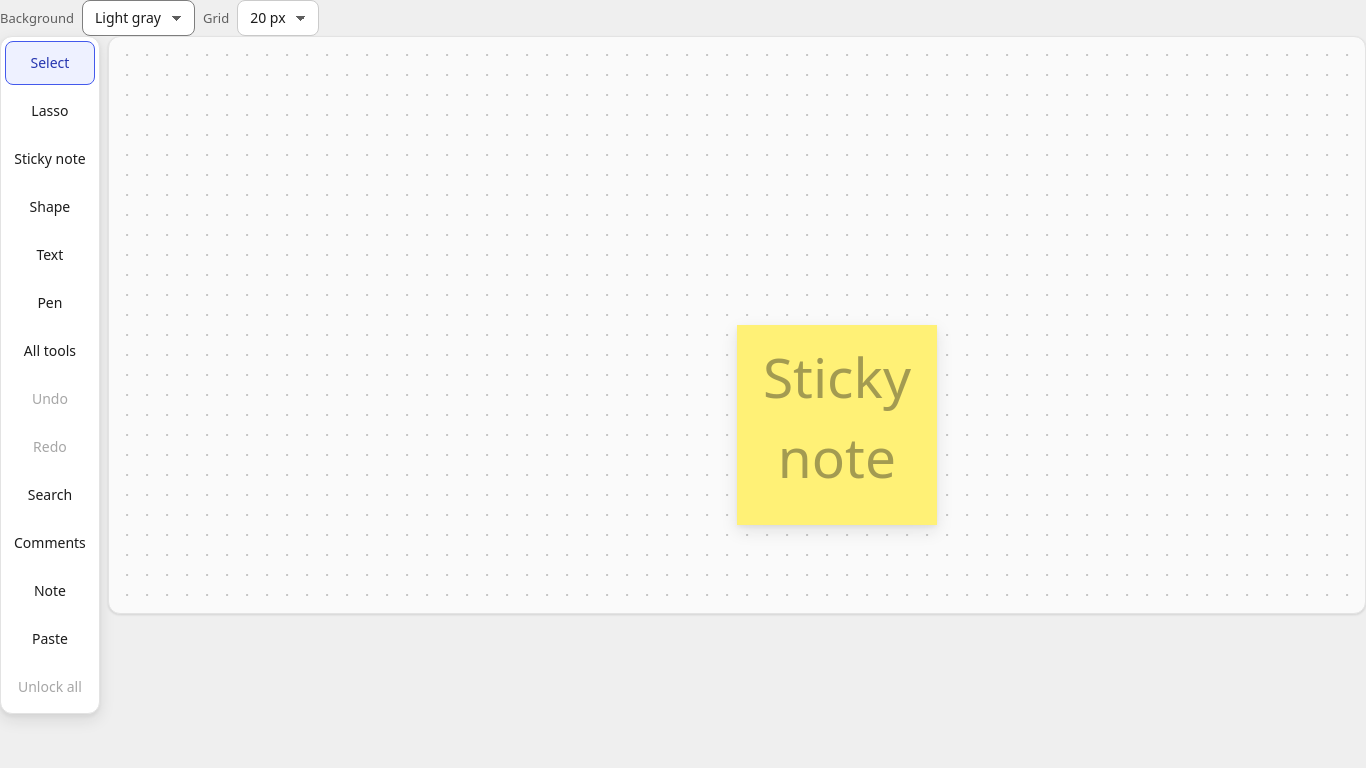
Test: CVS-24 закреплённые инструменты и полный список › пока список открыт, клавиши сцены не работают; Escape закрывает его с первого раза
Press the mouse on the element showing "Sticky note": (837, 425) [737, 325, 937, 525]
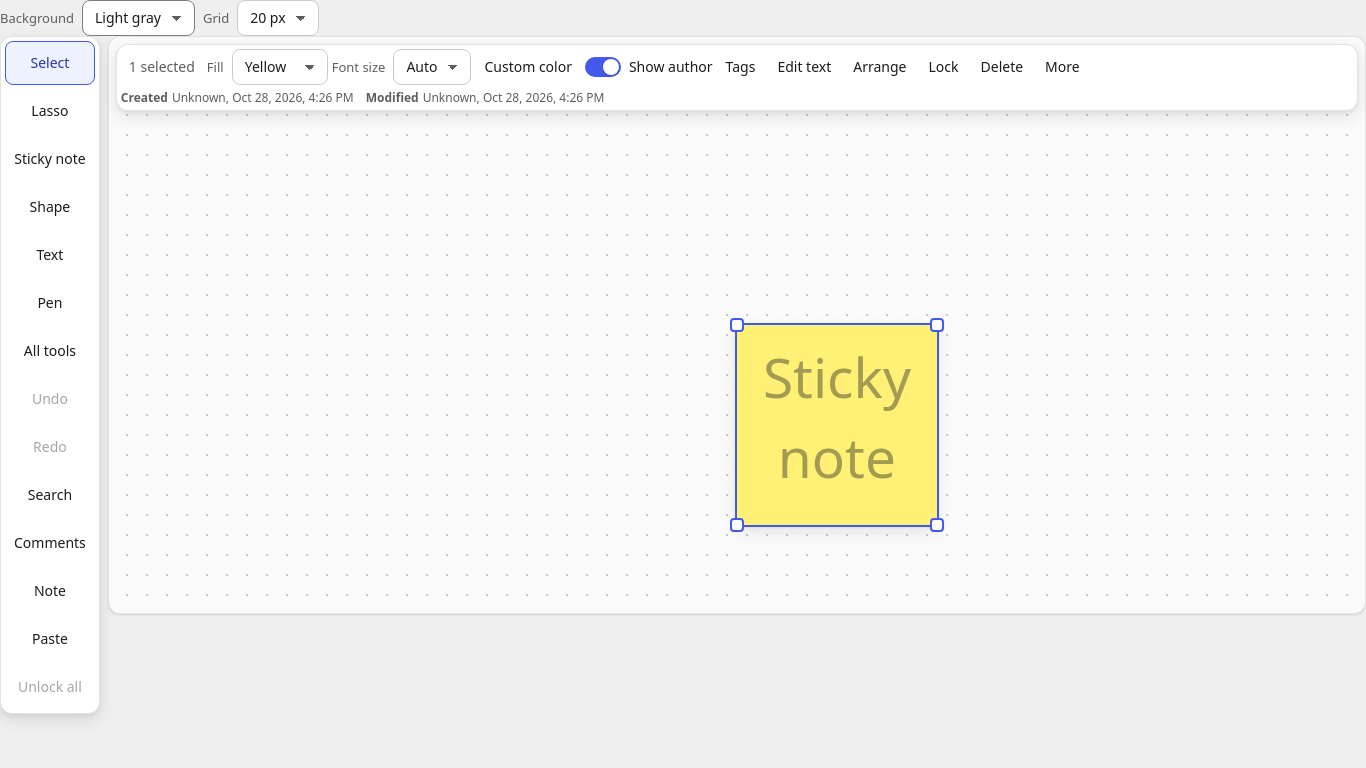
Click the button "All tools": (50, 351) [5, 329, 95, 373]
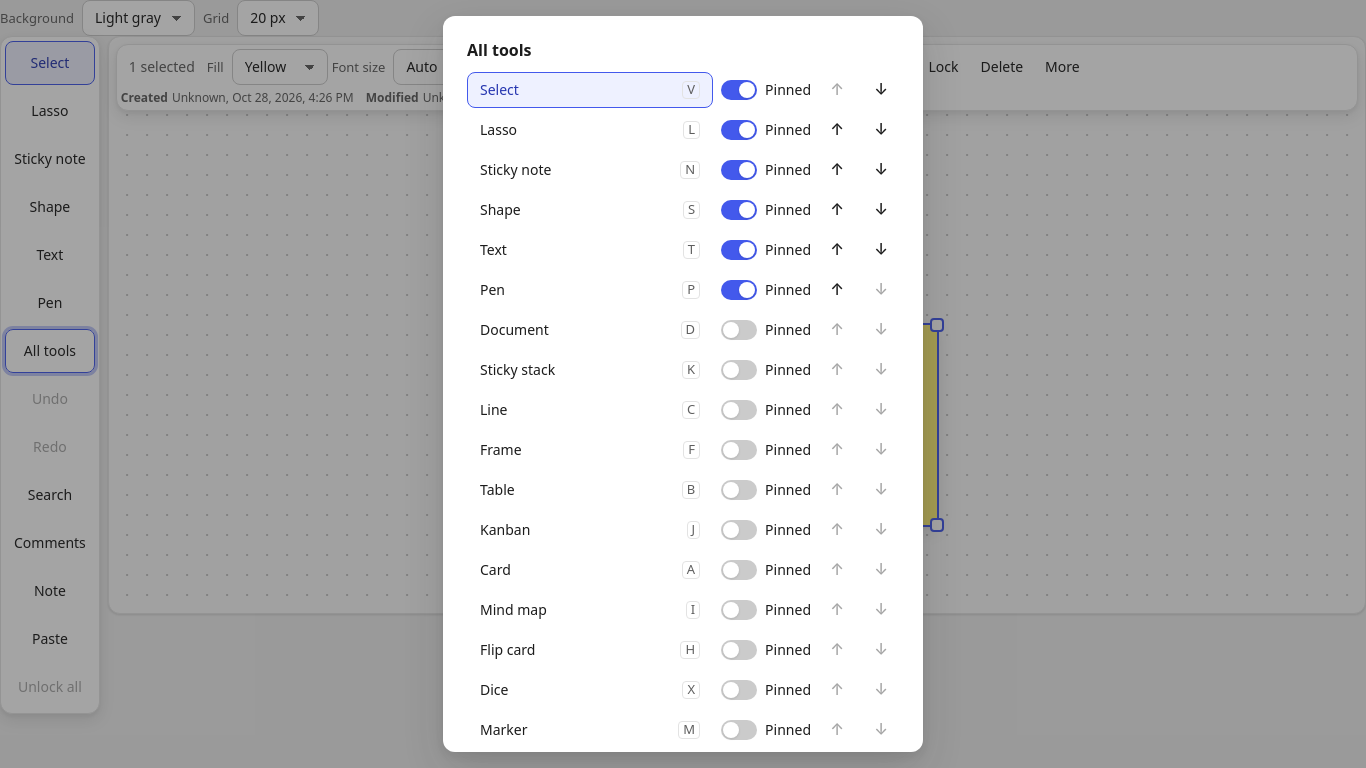
Type keys "{Delete}l"
Press Escape
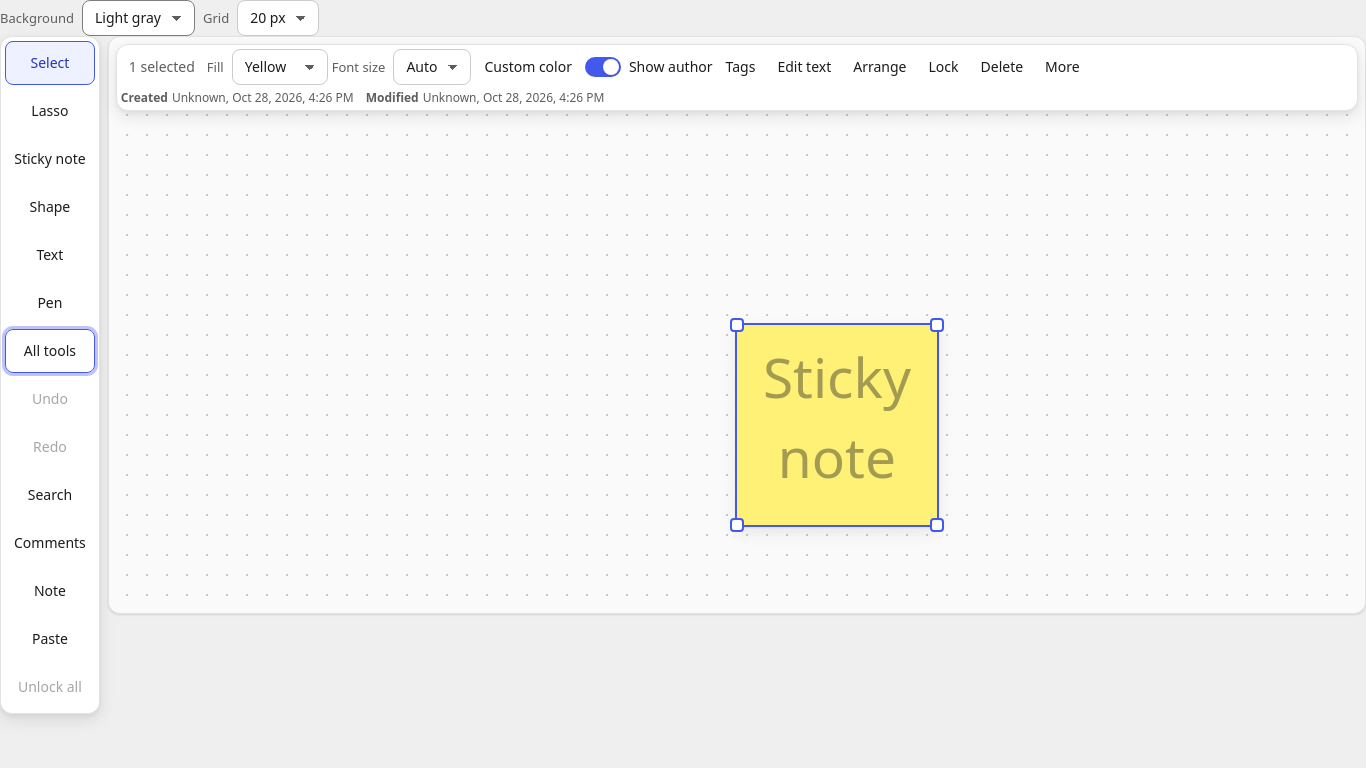
Now the dialog is gone
